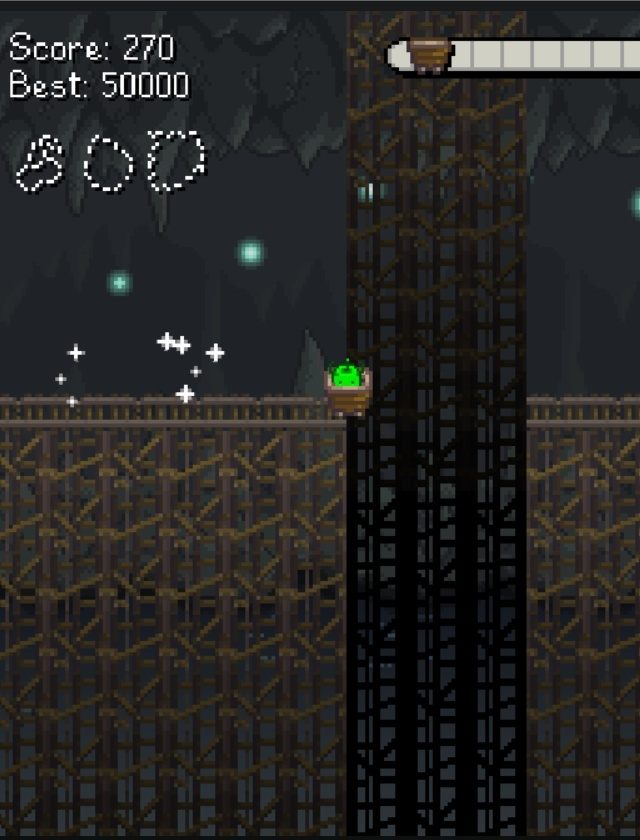minecart: (325, 370, 371, 414)
tracks: (0, 385, 315, 435), (520, 382, 640, 432)
